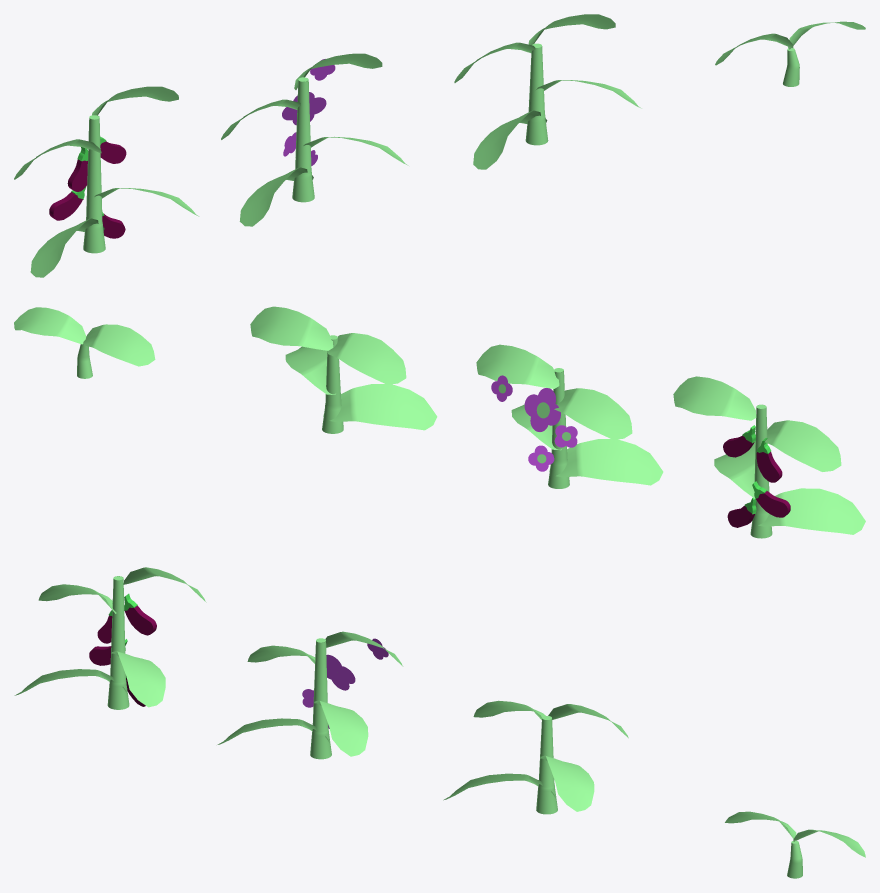
The model's file is Baklajan.fbx.
The picture shows the model from 3 angles, top to bottom: view 1: azimuth 30°, elevation 25°; view 2: azimuth 150°, elevation 25°; view 3: azimuth 330°, elevation 25°; orthographic projection. The views are drawn at different scales.
Visible parts, largest first — view 1: Cylinder.001, Cylinder.003, Cylinder.002, Cylinder, Cube.003, Cube.001; view 2: Cylinder.001, Cylinder.002, Cylinder.003, Cylinder, Cube.003, Cube.001, Cube, Cube.002; view 3: Cylinder.001, Cylinder.003, Cylinder.002, Cylinder, Cube.
Part boxes in pixels (x1,y1,x2,y2): Cylinder.001: [221, 53, 408, 226]; Cylinder.003: [14, 86, 199, 277]; Cylinder.002: [454, 14, 641, 169]; Cylinder: [715, 21, 865, 86]; Cube.003: [49, 186, 86, 220]; Cube.001: [67, 147, 88, 191]; Cylinder.001: [476, 344, 663, 488]; Cylinder.002: [250, 306, 437, 433]; Cylinder.003: [673, 376, 865, 538]; Cylinder: [14, 307, 155, 378]; Cube.003: [752, 481, 790, 517]; Cube.001: [756, 438, 782, 482]; Cube: [723, 425, 755, 457]; Cube.002: [727, 497, 756, 527]; Cylinder.001: [217, 631, 403, 759]; Cylinder.003: [14, 567, 206, 709]; Cylinder.002: [443, 700, 628, 814]; Cylinder: [725, 811, 865, 878]; Cube: [124, 593, 156, 635].
Bounding box in the file's own units: 2455 × 426 × 306.
